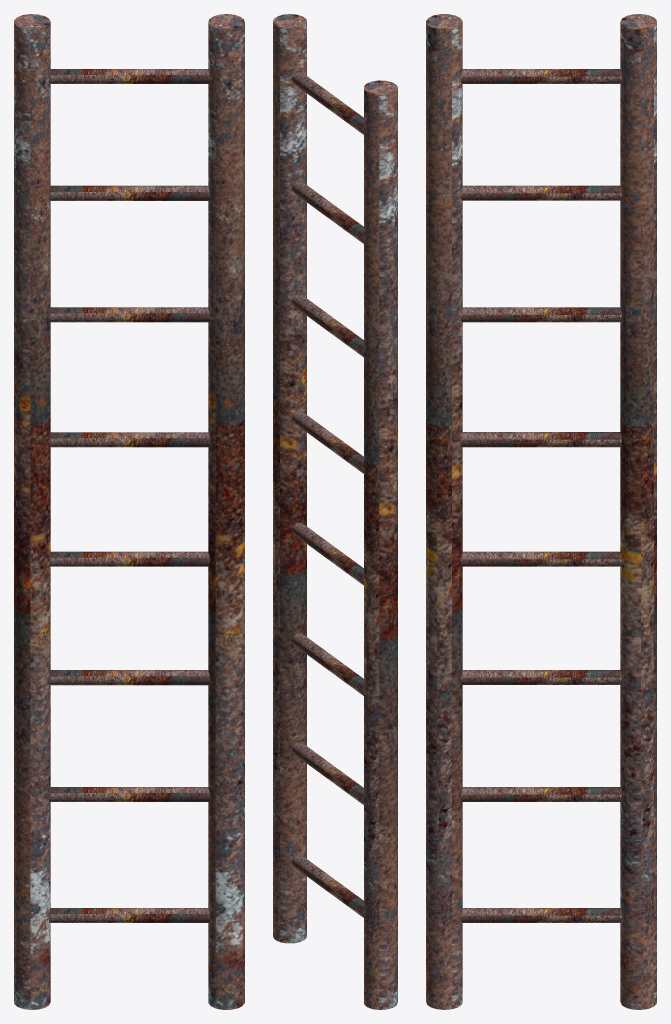
File: ladder.obj
3 views of the same model, side by side, from view 1: azimuth 90°, elevation 25°; view 2: azimuth 210°, elevation 25°; view 3: azimuth 270°, elevation 25° (orthographic). The views are drawn at different scales.
Visible parts, largest first — view 1: pCylinder1, Ladder, stair4, stair6, stair7, stair8, stair5, stair2, stair3, stair9; view 2: Ladder, pCylinder1, stair2, stair3, stair5, stair6, stair8, stair4, stair7, stair9; view 3: pCylinder1, Ladder, stair5, stair6, stair7, stair8, stair2, stair3, stair9, stair4.
Boxes of the visible parts, left/top/right/bottom form: pCylinder1: left=208, top=14, right=244, bottom=1009; Ladder: left=14, top=14, right=50, bottom=1009; stair4: left=49, top=670, right=209, bottom=685; stair6: left=49, top=432, right=209, bottom=447; stair7: left=49, top=307, right=209, bottom=322; stair8: left=49, top=185, right=209, bottom=200; stair5: left=49, top=551, right=209, bottom=566; stair2: left=49, top=908, right=209, bottom=922; stair3: left=49, top=787, right=209, bottom=801; stair9: left=49, top=69, right=209, bottom=83; Ladder: left=364, top=80, right=397, bottom=1009; pCylinder1: left=273, top=14, right=306, bottom=943; stair2: left=291, top=855, right=363, bottom=917; stair3: left=291, top=742, right=363, bottom=804; stair5: left=291, top=522, right=363, bottom=585; stair6: left=291, top=411, right=363, bottom=473; stair8: left=291, top=181, right=363, bottom=243; stair4: left=291, top=633, right=363, bottom=695; stair7: left=291, top=294, right=363, bottom=357; stair9: left=291, top=72, right=363, bottom=134; pCylinder1: left=426, top=14, right=462, bottom=1009; Ladder: left=620, top=14, right=656, bottom=1009; stair5: left=460, top=551, right=621, bottom=566; stair6: left=461, top=432, right=621, bottom=447; stair7: left=461, top=307, right=621, bottom=322; stair8: left=461, top=185, right=621, bottom=200; stair2: left=460, top=908, right=621, bottom=922; stair3: left=460, top=787, right=621, bottom=801; stair9: left=460, top=69, right=621, bottom=83; stair4: left=461, top=670, right=621, bottom=684.
Bounding box in the file's own units: 0.5603 × 16.52 × 3.52.
1 material, 1 textured.
